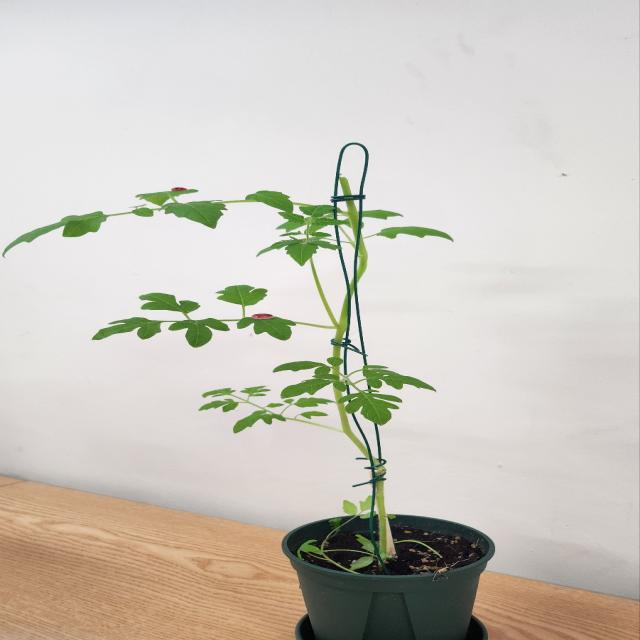bug: (143, 179, 214, 202), (244, 304, 282, 324)
